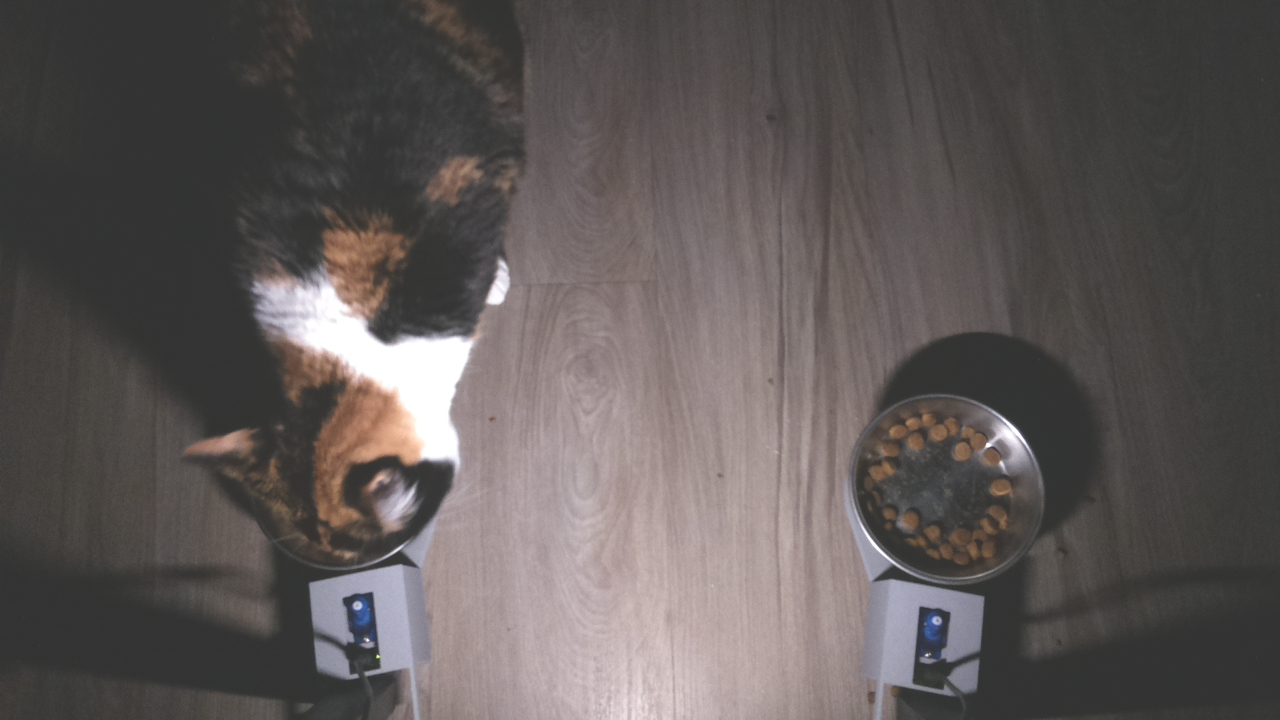bella_eating: (171, 344, 502, 572)
open_bowl: (841, 386, 1051, 590)
